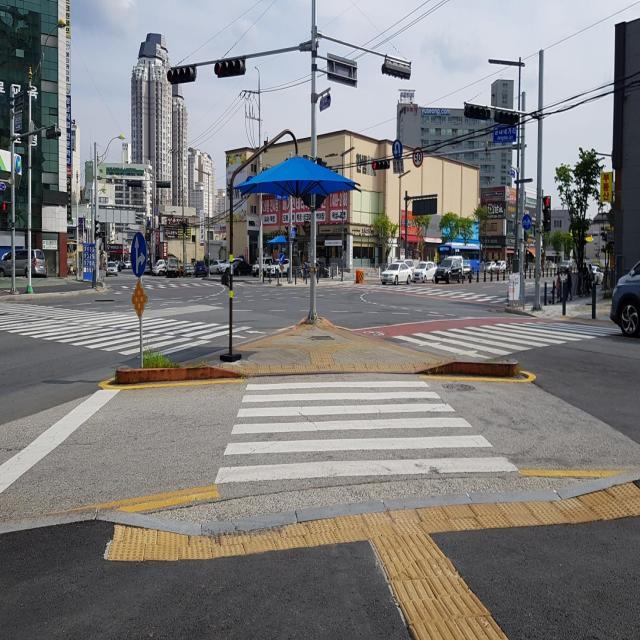빨간불: (542, 195, 554, 232), (2, 199, 12, 230)
횡단보도: (213, 378, 520, 486), (0, 298, 267, 358), (384, 313, 627, 360)
